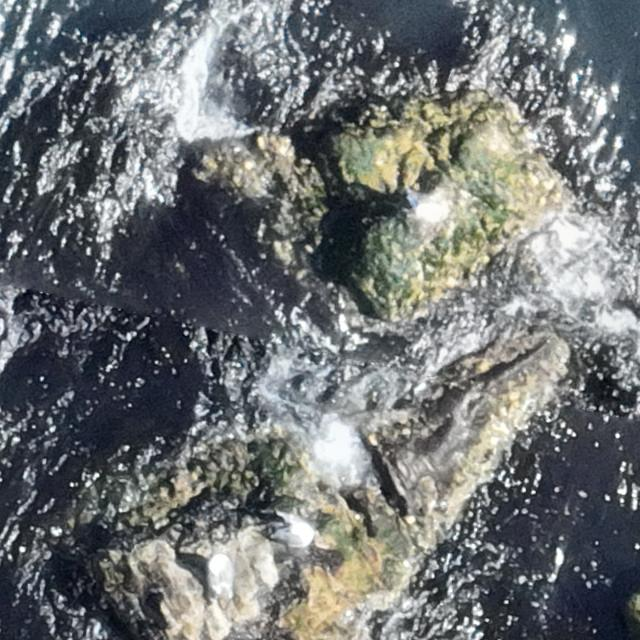umineko: (268, 518, 316, 544), (205, 551, 232, 596)
